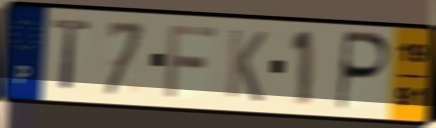1: (289, 29, 317, 109)
7: (103, 20, 147, 98)
F: (162, 23, 219, 101)
K: (223, 26, 269, 105)
P: (333, 29, 394, 114)
T: (51, 16, 94, 94)
